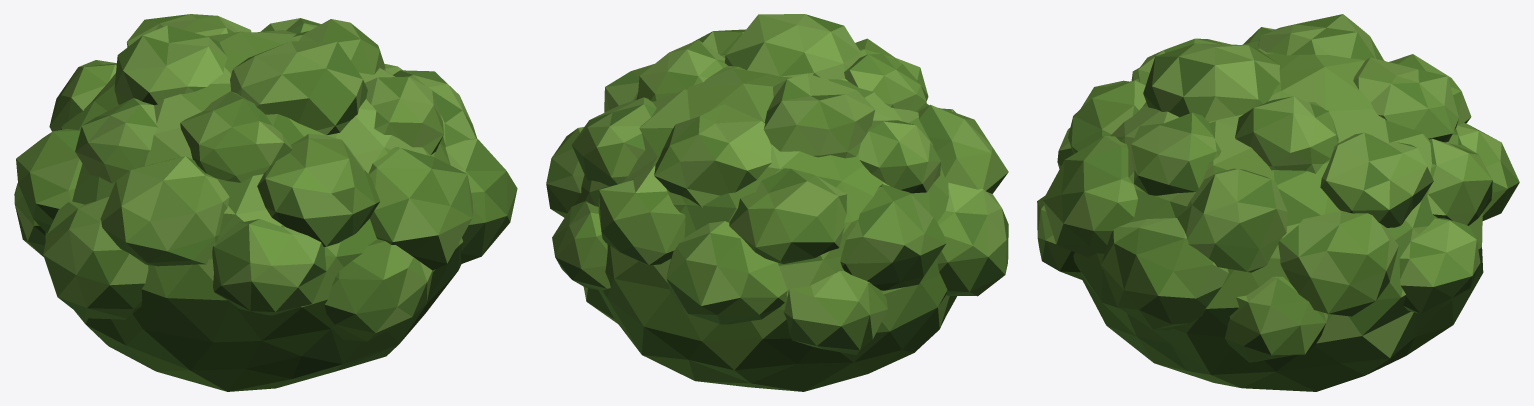
File: zen_shrub.glb
3 views of the same model, side by side, from view 1: azimuth 30°, elevation 25°; view 2: azimuth 150°, elevation 25°; view 3: azimuth 270°, elevation 25° (orthographic). The views are drawn at different scales.
Visible parts, largest first — view 1: zen_shrub; view 2: zen_shrub; view 3: zen_shrub.
Part boxes in pixels (box(x1,y1,x2,y2)): zen_shrub: box(14, 14, 517, 391); zen_shrub: box(546, 14, 1008, 391); zen_shrub: box(1037, 14, 1519, 391).
Size of the model in its own units: 2.16 by 1.49 by 2.17.
